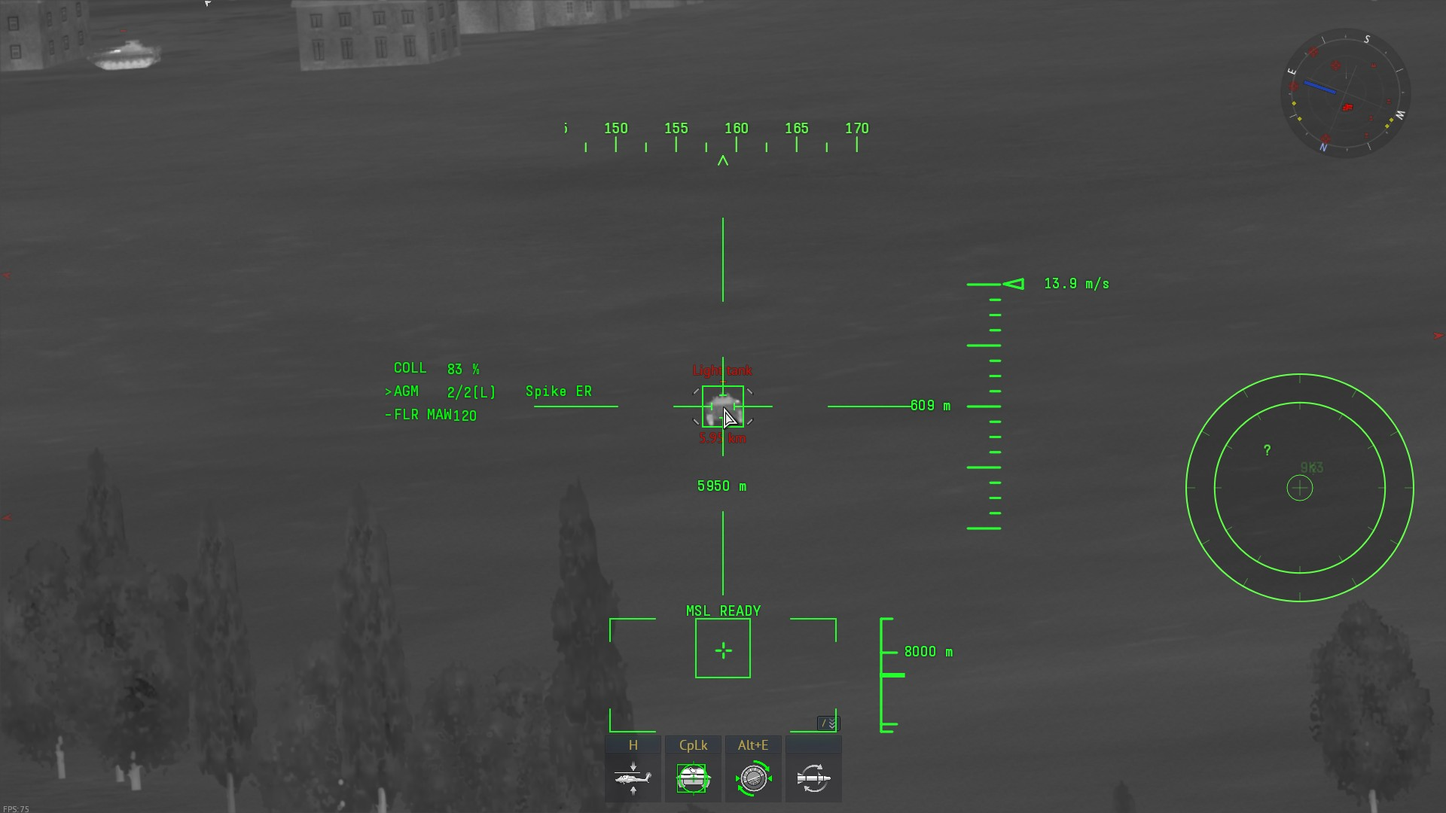bmp2: (85, 40, 163, 74)
